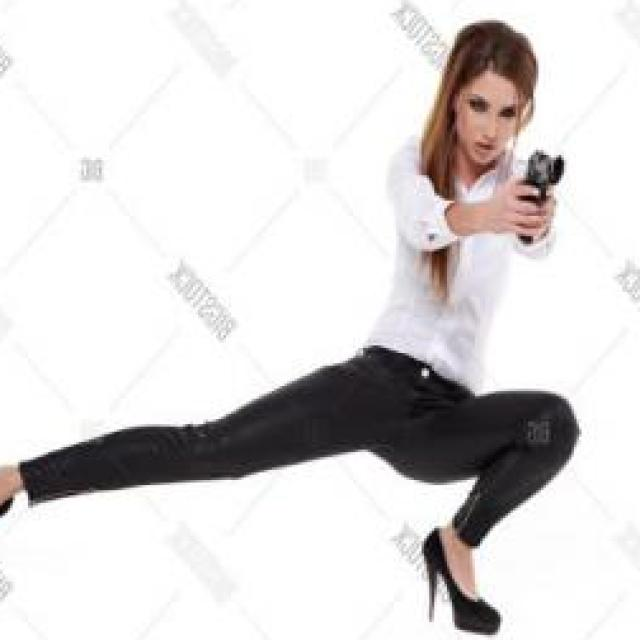pistol: (517, 150, 566, 244)
